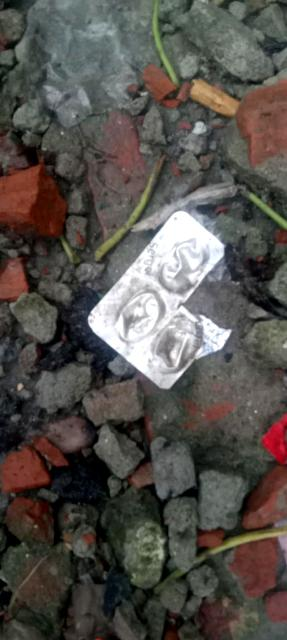medicine: (75, 191, 280, 401)
